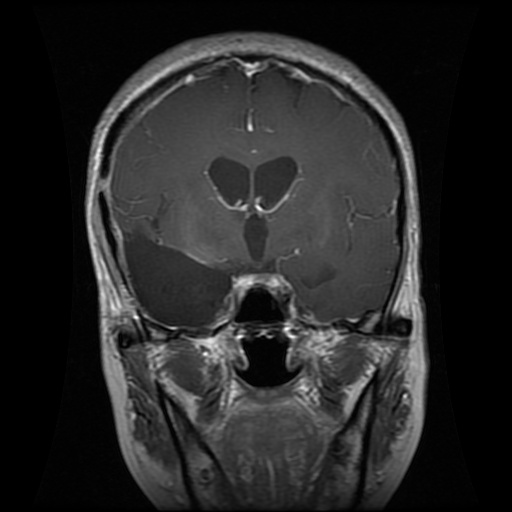glioma: (126, 225, 231, 325)
